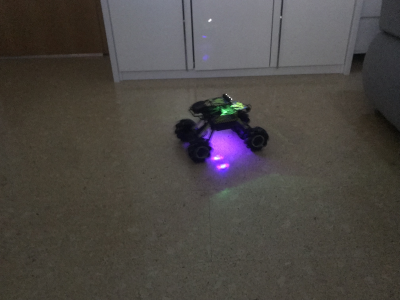remote control car: (169, 92, 271, 162)
